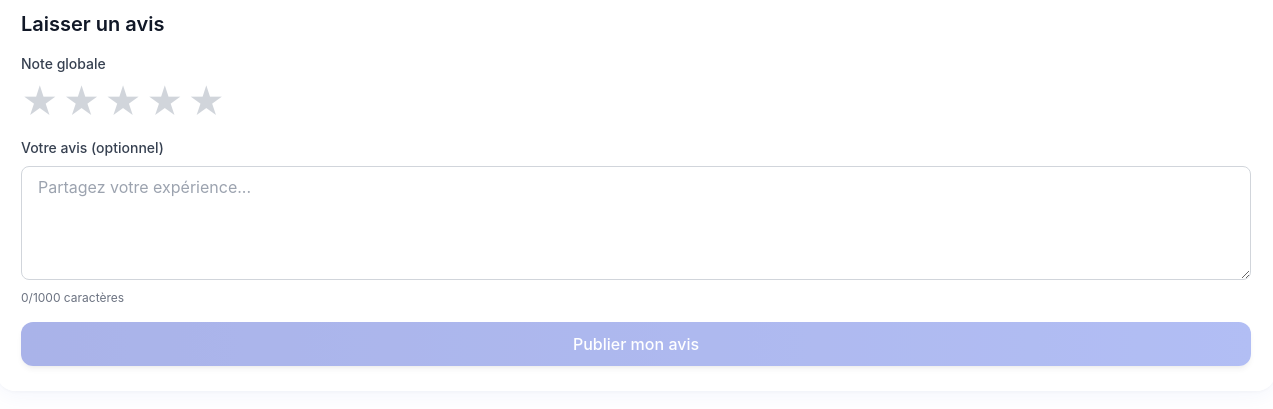
Test: ReviewForm › updates the remaining character counter as the comment changes
Expected: the text "0/1000 caractères" is shown, [21,290,124,305]
Type "abcde" into the text box labelled "Votre avis (optionnel)". click: (636, 223)
box: [21,166,1251,280]
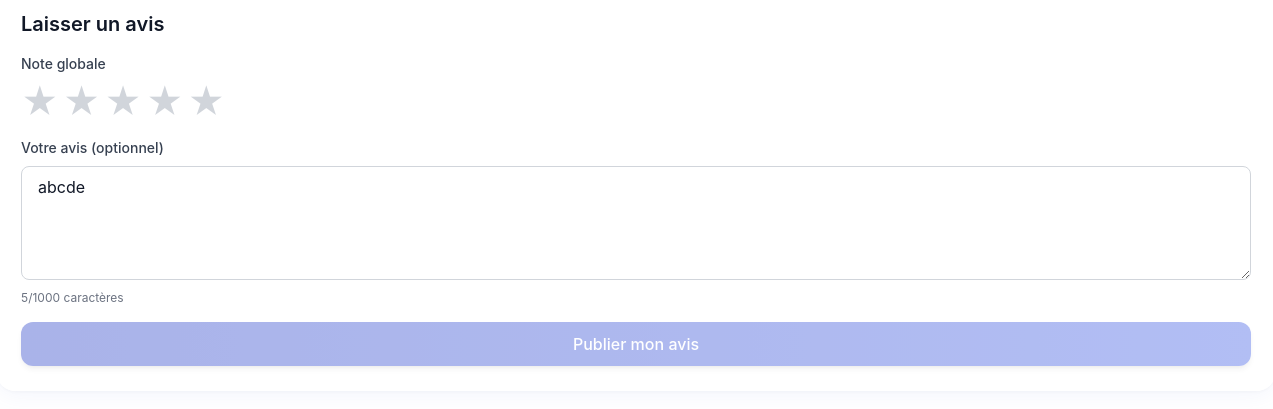
Now the text "5/1000 caractères" is shown, box [21,290,124,305]
